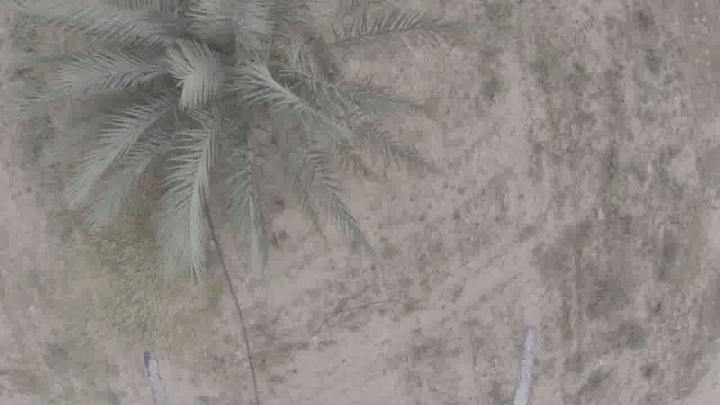Date-Palm-Crown: (115, 0, 351, 192)
